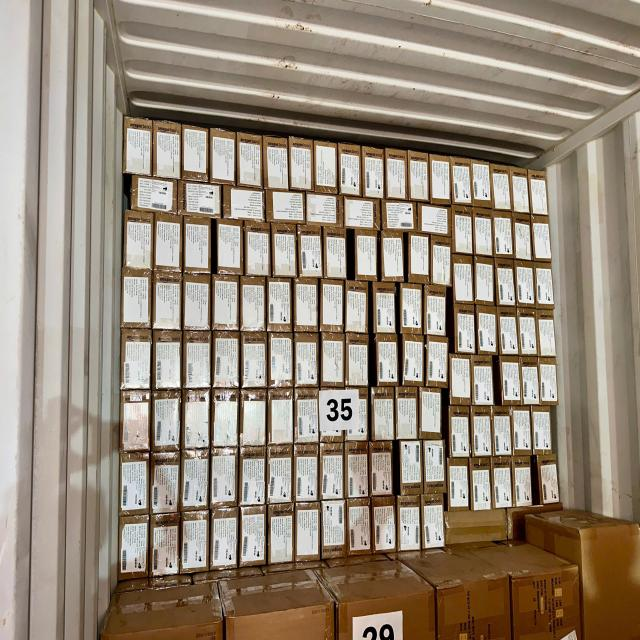Carton: (181, 511, 211, 574), (122, 271, 154, 330), (130, 177, 178, 216), (448, 511, 508, 542), (121, 390, 151, 450), (153, 272, 183, 331), (266, 447, 294, 510), (239, 507, 267, 570), (124, 116, 153, 176), (152, 391, 182, 449), (178, 181, 223, 219), (120, 330, 150, 387), (152, 332, 182, 389), (124, 209, 152, 270), (120, 453, 148, 514), (346, 498, 374, 559), (154, 220, 184, 276), (150, 452, 178, 512), (215, 220, 244, 276), (184, 276, 213, 332), (371, 498, 399, 556), (267, 505, 294, 565), (182, 391, 210, 448), (213, 272, 240, 331), (183, 450, 209, 511), (212, 509, 238, 570), (184, 333, 212, 389), (240, 390, 268, 446), (243, 224, 272, 278), (321, 502, 348, 560), (224, 185, 266, 222), (183, 219, 211, 274), (154, 121, 180, 180), (237, 129, 263, 188), (213, 389, 239, 446), (261, 138, 290, 189), (397, 494, 422, 553), (269, 391, 296, 445), (182, 125, 208, 181), (209, 128, 235, 184), (214, 333, 240, 389), (240, 450, 266, 506), (420, 494, 446, 550), (212, 451, 237, 509), (296, 503, 321, 561), (271, 226, 299, 277), (241, 277, 267, 331), (242, 334, 268, 387), (419, 386, 444, 441), (319, 388, 344, 443), (268, 280, 294, 332), (373, 282, 398, 336), (269, 335, 294, 389), (372, 388, 397, 442), (294, 449, 319, 503), (346, 442, 370, 498), (345, 389, 371, 440), (396, 387, 421, 440), (265, 190, 306, 222), (320, 450, 346, 500), (429, 152, 453, 206), (295, 279, 319, 333), (401, 284, 425, 337), (347, 334, 371, 387), (296, 389, 320, 442), (399, 441, 423, 494), (449, 352, 472, 407), (338, 146, 363, 196), (290, 139, 314, 191), (448, 156, 472, 208), (407, 232, 430, 286), (449, 404, 472, 458), (370, 442, 392, 498), (423, 442, 448, 491), (380, 231, 404, 282), (321, 281, 345, 332), (536, 456, 562, 503), (298, 228, 322, 278), (429, 237, 453, 287), (376, 337, 400, 387), (471, 354, 495, 404), (321, 335, 344, 387), (470, 458, 492, 512), (306, 195, 343, 227), (528, 169, 552, 218), (509, 168, 532, 219), (454, 306, 478, 354), (499, 357, 523, 405), (452, 210, 477, 256), (448, 458, 470, 510), (530, 217, 554, 264), (452, 256, 476, 303), (322, 229, 345, 278), (356, 229, 378, 280), (296, 335, 318, 386), (492, 457, 514, 508), (417, 203, 454, 233), (346, 282, 368, 332), (471, 408, 493, 458), (363, 148, 384, 200), (512, 455, 533, 507), (476, 308, 499, 355), (344, 198, 380, 228), (531, 406, 553, 455), (386, 152, 408, 200), (470, 160, 492, 208), (316, 142, 336, 194), (425, 290, 447, 337), (534, 316, 558, 359), (410, 150, 430, 201), (474, 259, 496, 305), (402, 338, 423, 386), (426, 338, 446, 388), (539, 358, 560, 404), (492, 162, 512, 210), (534, 262, 554, 310), (520, 356, 540, 404), (513, 408, 533, 456), (517, 314, 539, 357), (383, 204, 418, 231), (499, 309, 519, 356), (493, 408, 513, 455), (496, 261, 516, 306), (515, 266, 536, 308), (494, 212, 514, 255), (474, 211, 493, 256), (514, 222, 532, 260)
